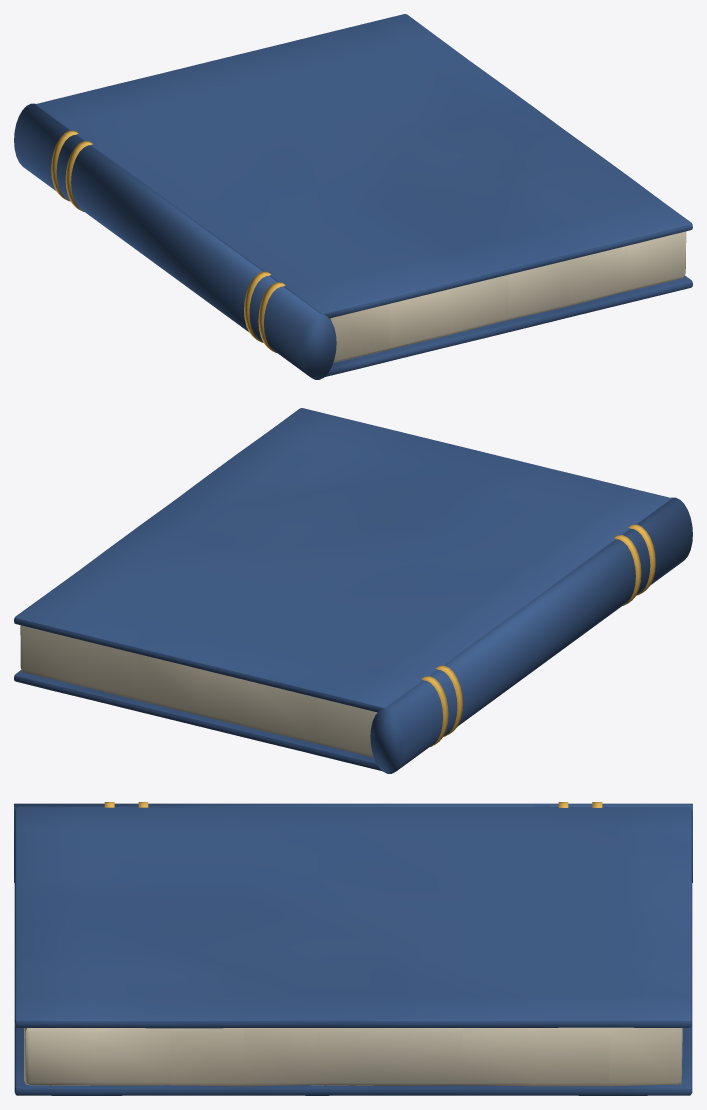
File: frost_book_blue.glb
3 views of the same model, one above another, from view 1: azimuth 30°, elevation 25°; view 2: azimuth 150°, elevation 25°; view 3: azimuth 270°, elevation 25° (orthographic). The views are drawn at different scales.
Visible parts, largest first — view 1: frost_book_blue; view 2: frost_book_blue; view 3: frost_book_blue.
Boxes of the visible parts, left/top/right/bottom form: frost_book_blue: left=14, top=14, right=692, bottom=379; frost_book_blue: left=14, top=408, right=692, bottom=773; frost_book_blue: left=14, top=802, right=692, bottom=1095.
Size of the model in its own units: 18.96 by 3.12 by 24.05.
